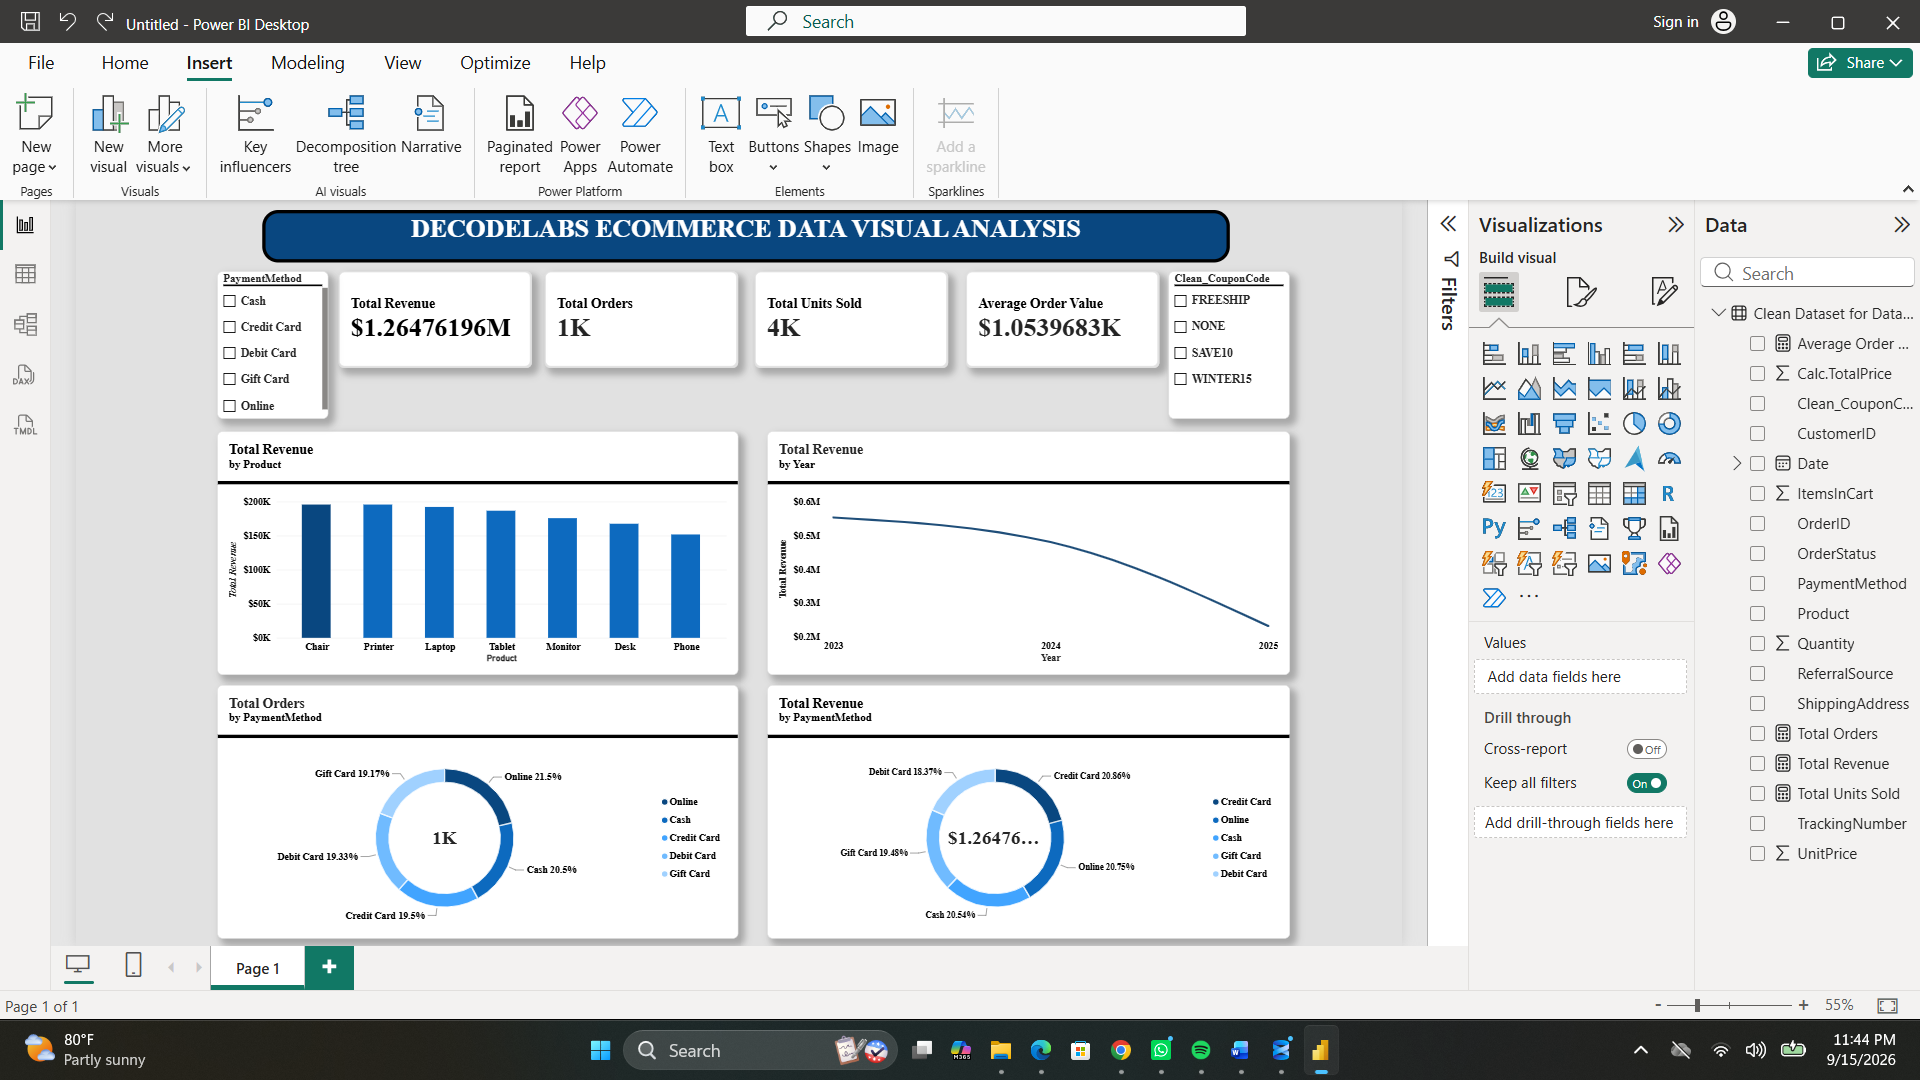

Layout of this report page (visuals, bound fields, positions):
{"tool":"powerbi","page":{"name":"Page 1","canvas":[1920,1080],"ordinal":0},"visuals":[{"type":"cardVisual","fields":{"Data":["Clean Dataset for Data Analytics.Total Orders"]},"box":[678.6,103.2,279.9,140],"z":0},{"type":"cardVisual","fields":{"Data":["Clean Dataset for Data Analytics.Total Units Sold"]},"box":[982.6,103.2,279.9,140],"z":1000},{"type":"cardVisual","fields":{"Data":["Clean Dataset for Data Analytics.Total Revenue"]},"box":[380,103.2,279.9,140],"z":2000},{"type":"cardVisual","fields":{"Data":["Clean Dataset for Data Analytics.Average Order Value"]},"box":[1288.5,103.2,279.9,140],"z":3000},{"type":"clusteredColumnChart","fields":{"Category":["Clean Dataset for Data Analytics.Product"],"Y":["Clean Dataset for Data Analytics.Total Revenue"]},"box":[204.5,334.8,754.6,352.9],"z":4000},{"type":"lineChart","fields":{"Category":["Clean Dataset for Data Analytics.Date.Variation.Date Hierarchy.Year","Clean Dataset for Data Analytics.Date.Variation.Date Hierarchy.Quarter","Clean Dataset for Data Analytics.Date.Variation.Date Hierarchy.Month","Clean Dataset for Data Analytics.Date.Variation.Date Hierarchy.Day"],"Y":["Clean Dataset for Data Analytics.Total Revenue"]},"box":[1000.7,334.8,756.4,352.9],"z":5000},{"type":"donutChart","fields":{"Category":["Clean Dataset for Data Analytics.PaymentMethod"],"Y":["Clean Dataset for Data Analytics.Total Orders"]},"box":[204.5,702.1,754.6,367.4],"z":6000},{"type":"donutChart","fields":{"Category":["Clean Dataset for Data Analytics.PaymentMethod"],"Y":["Clean Dataset for Data Analytics.Total Revenue"]},"box":[1000.7,702.1,756.4,367.4],"z":7000},{"type":"slicer","fields":{"Values":["Clean Dataset for Data Analytics.PaymentMethod"]},"box":[204.5,103.2,161.1,213.5],"z":8000},{"type":"slicer","fields":{"Values":["Clean Dataset for Data Analytics.Clean_CouponCode"]},"box":[1581.6,103.2,175.5,213.5],"z":9000},{"type":"textbox","box":[269.6,14.5,1400.7,76],"z":10000}]}

Visuals, with their boxes on the page's 1920x1080 design canvas (x1, y1, x2, y2). These are canvas units, not pixel positions in the 1920x1080 screenshot, which may show the page scaled, cropped or inside an application window:
cardVisual - Clean Dataset for Data Analytics.Total Orders: {"x1": 679, "y1": 103, "x2": 958, "y2": 243}
cardVisual - Clean Dataset for Data Analytics.Total Units Sold: {"x1": 983, "y1": 103, "x2": 1262, "y2": 243}
cardVisual - Clean Dataset for Data Analytics.Total Revenue: {"x1": 380, "y1": 103, "x2": 660, "y2": 243}
cardVisual - Clean Dataset for Data Analytics.Average Order Value: {"x1": 1288, "y1": 103, "x2": 1568, "y2": 243}
clusteredColumnChart - Clean Dataset for Data Analytics.Product x Clean Dataset for Data Analytics.Total Revenue: {"x1": 204, "y1": 335, "x2": 959, "y2": 688}
lineChart - Clean Dataset for Data Analytics.Date.Variation.Date Hierarchy.Year x Clean Dataset for Data Analytics.Date.Variation.Date Hierarchy.Quarter: {"x1": 1001, "y1": 335, "x2": 1757, "y2": 688}
donutChart - Clean Dataset for Data Analytics.PaymentMethod x Clean Dataset for Data Analytics.Total Orders: {"x1": 204, "y1": 702, "x2": 959, "y2": 1070}
donutChart - Clean Dataset for Data Analytics.PaymentMethod x Clean Dataset for Data Analytics.Total Revenue: {"x1": 1001, "y1": 702, "x2": 1757, "y2": 1070}
slicer - Clean Dataset for Data Analytics.PaymentMethod: {"x1": 204, "y1": 103, "x2": 366, "y2": 317}
slicer - Clean Dataset for Data Analytics.Clean_CouponCode: {"x1": 1582, "y1": 103, "x2": 1757, "y2": 317}
textbox: {"x1": 270, "y1": 14, "x2": 1670, "y2": 90}
